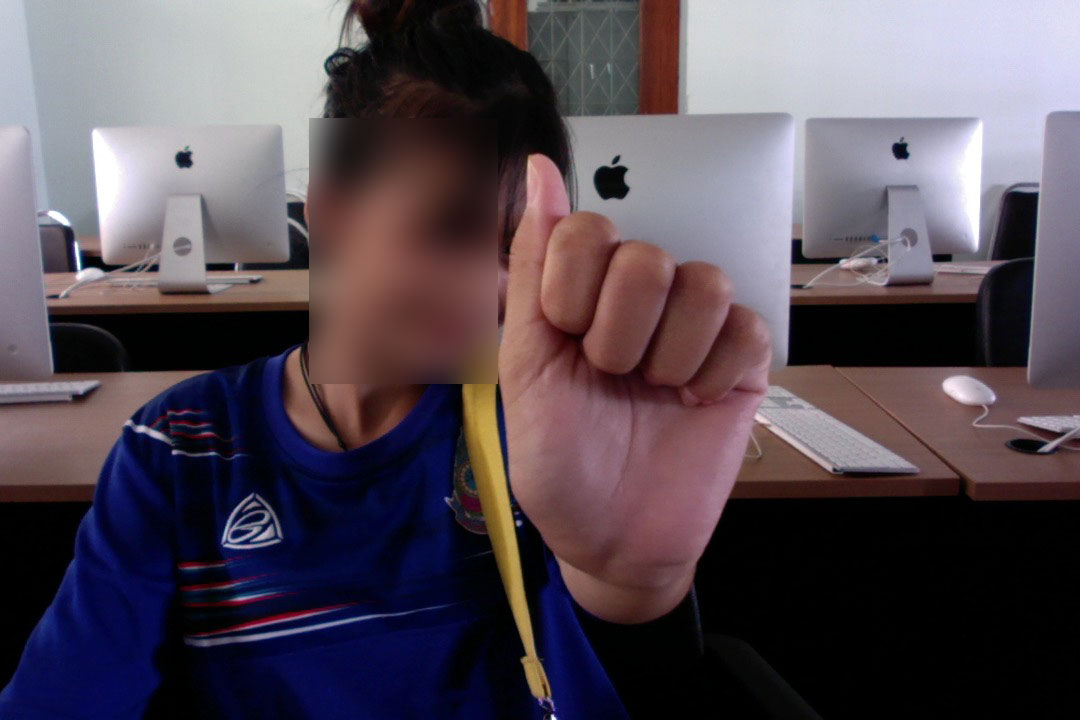or: (490, 136, 780, 591)
